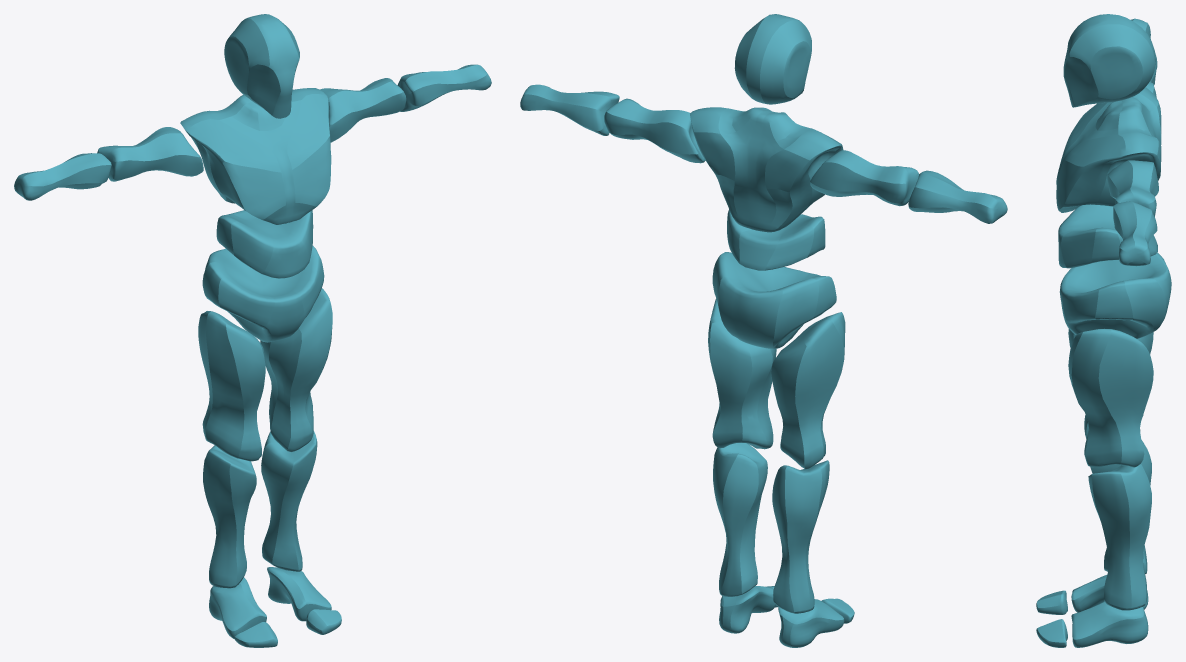
File: YBotC2.fbx
3 views of the same model, side by side, from view 1: azimuth 30°, elevation 25°; view 2: azimuth 150°, elevation 25°; view 3: azimuth 270°, elevation 25° (orthographic). The views are drawn at different scales.
Parts seen in each view (by area): view 1: Alpha_Surface; view 2: Alpha_Surface; view 3: Alpha_Surface.
Boxes of the visible parts, x1,y1,x2,y2 form: Alpha_Surface: [14, 14, 491, 647]; Alpha_Surface: [520, 14, 1007, 647]; Alpha_Surface: [1036, 14, 1171, 647].
Bounding box in the file's own units: 147 × 180 × 36.43.
